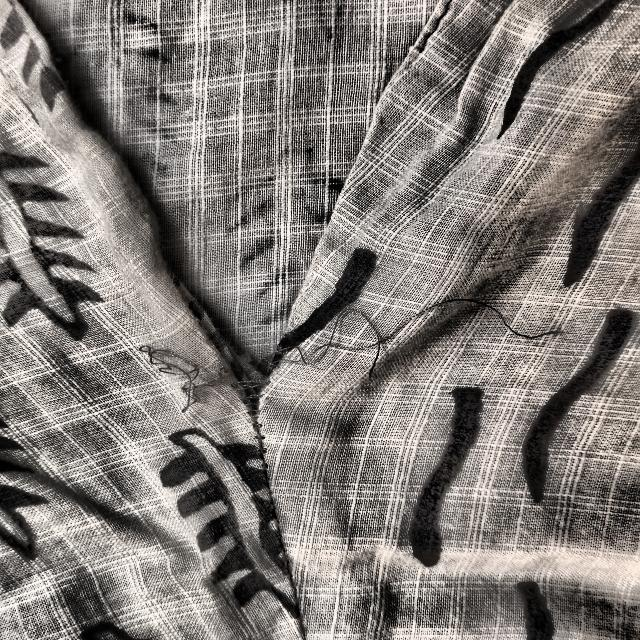Stitch: (71, 296, 601, 428)
